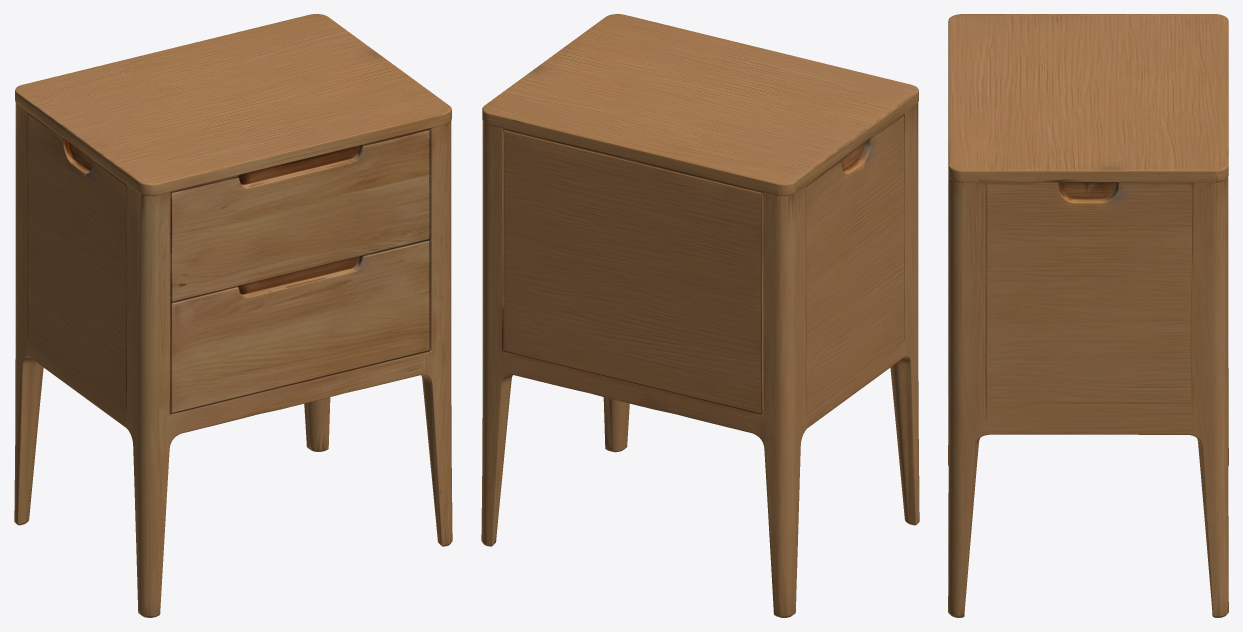
3 renders of one model, left to right at view 1: azimuth 30°, elevation 25°; view 2: azimuth 150°, elevation 25°; view 3: azimuth 270°, elevation 25°, orthographic. The views are drawn at different scales.
Parts seen in each view (by area): view 1: material; view 2: material; view 3: material.
Part boxes in pixels (x1,y1,x2,y2): material: (14, 14, 452, 617); material: (481, 14, 919, 617); material: (948, 14, 1228, 617).
Bounding box in the file's own units: 0.6655 × 0.8852 × 0.5024.
1 material, 1 textured.
